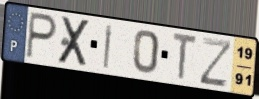0: (132, 29, 162, 76)
I: (102, 23, 115, 71)
P: (24, 10, 59, 62)
T: (171, 31, 199, 83)
X: (56, 15, 93, 68)
Z: (198, 36, 234, 89)
